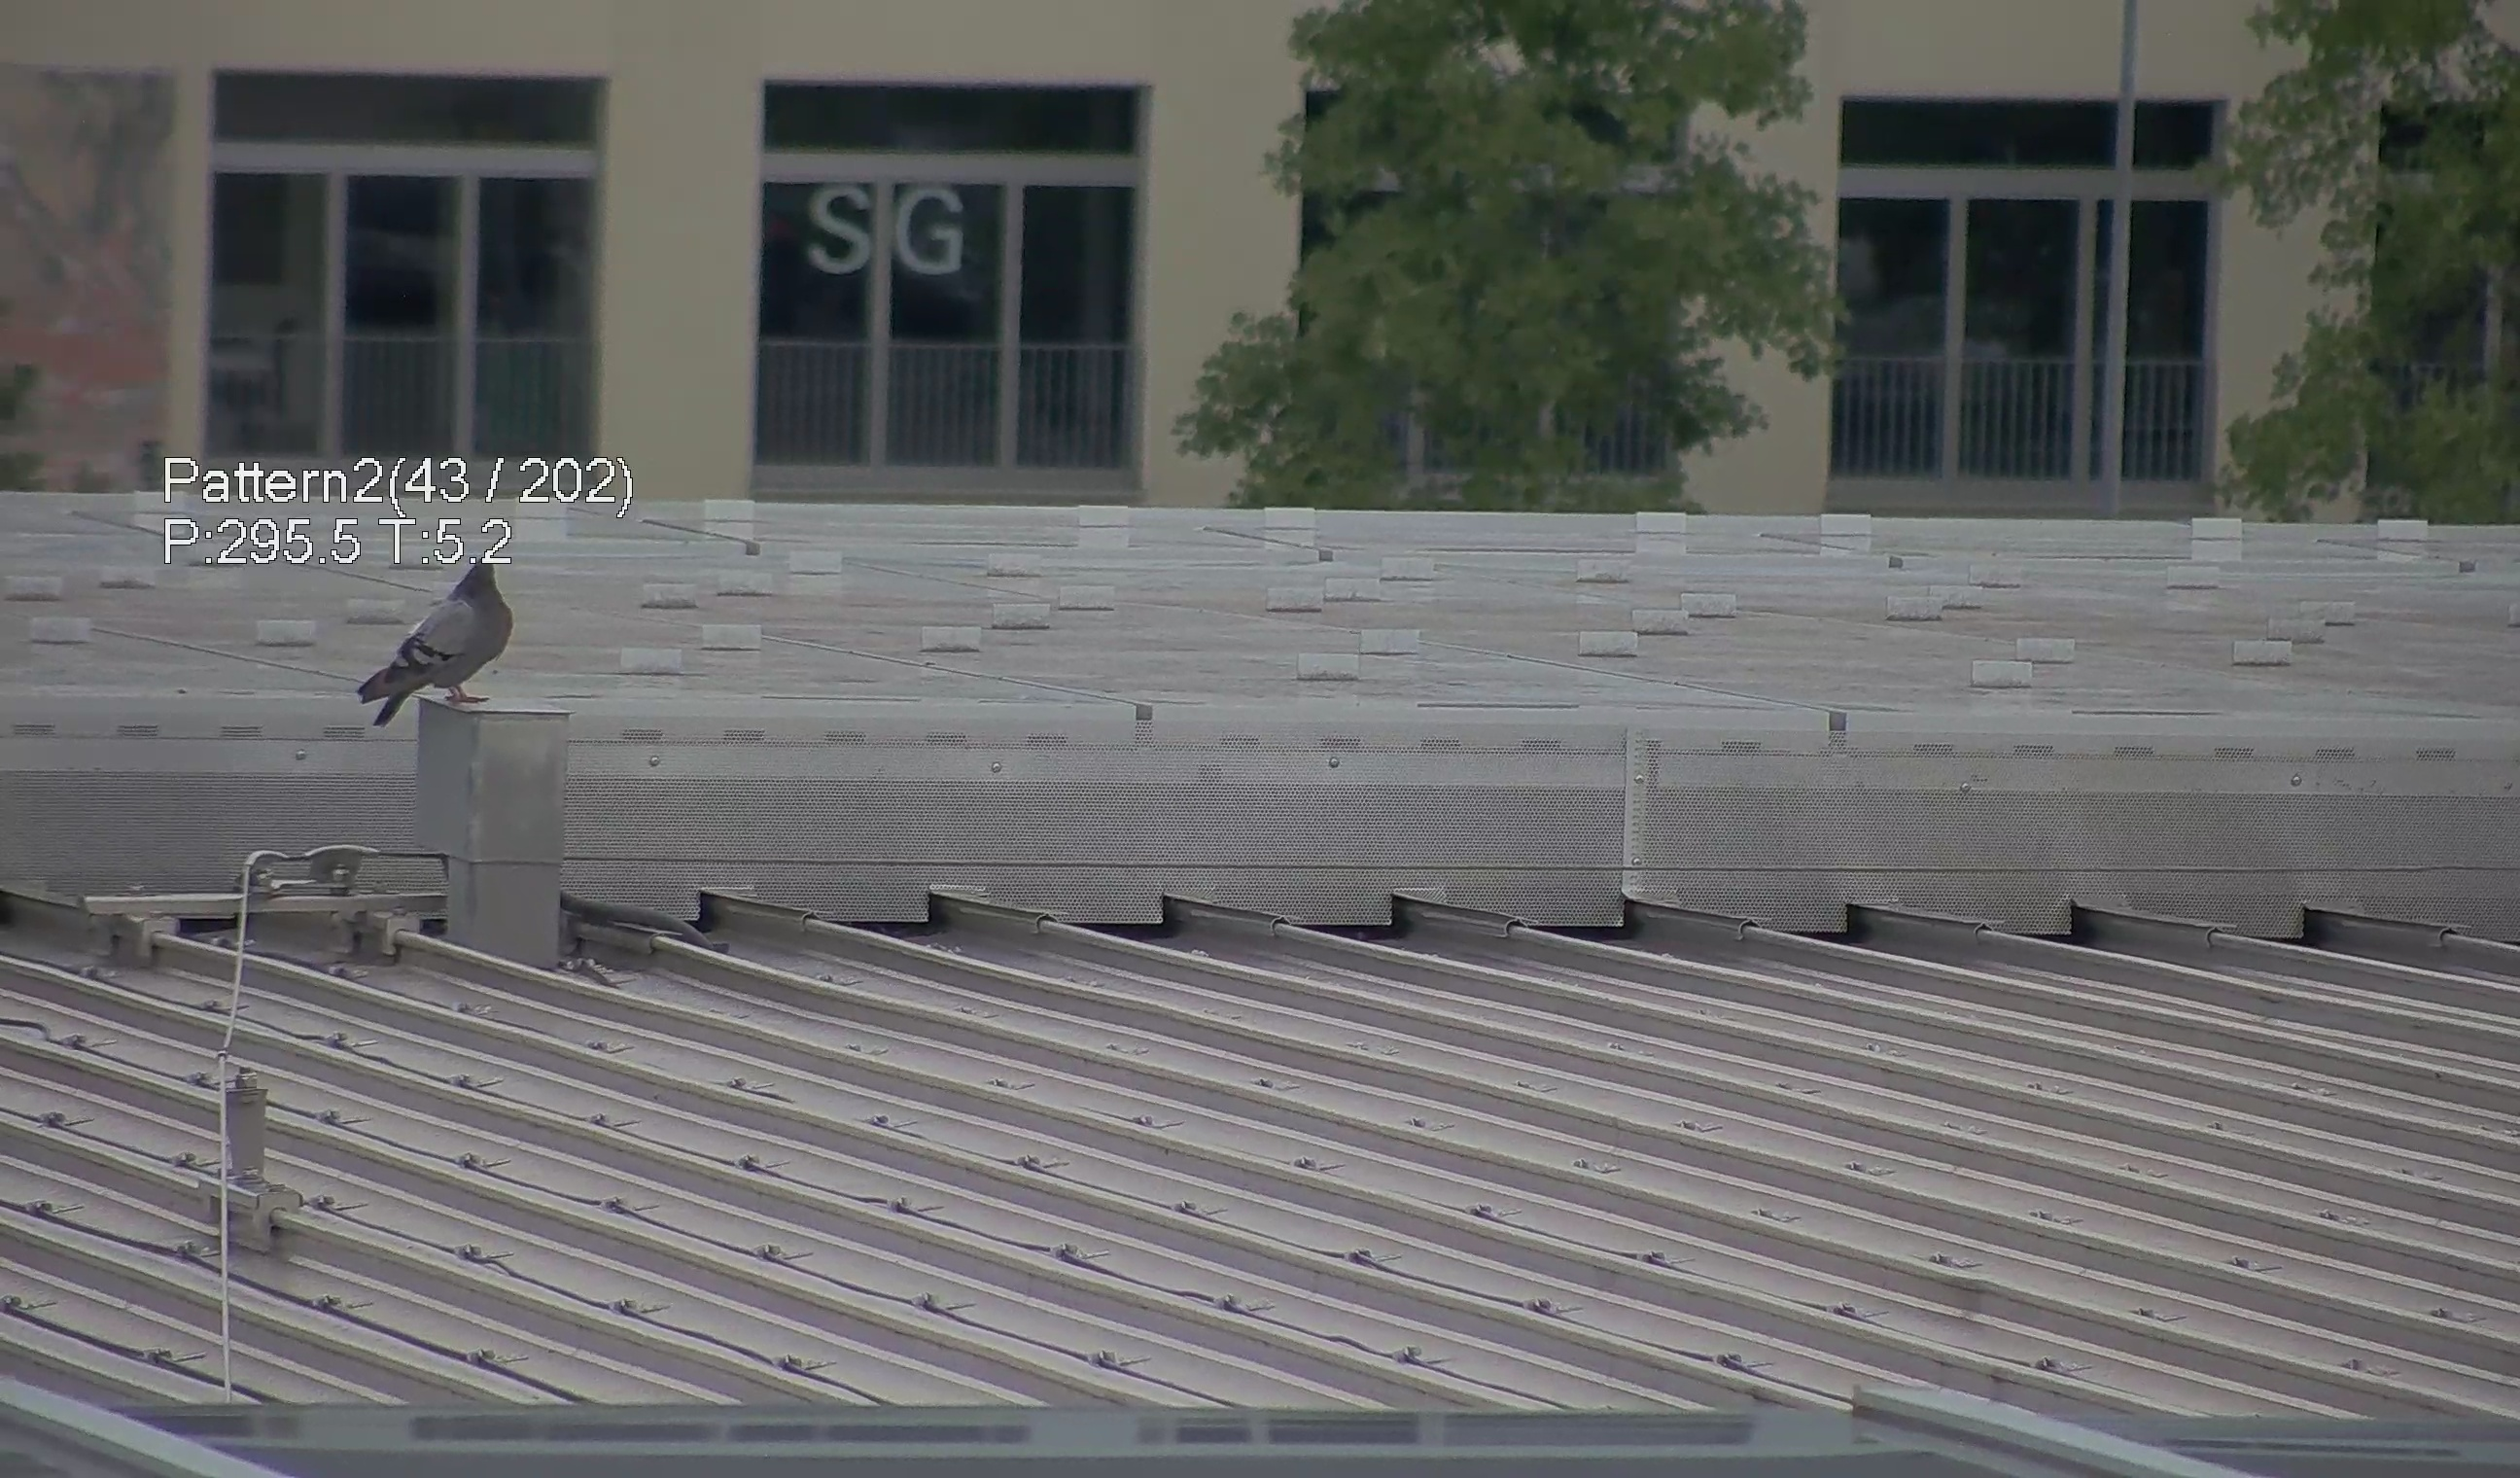Pigeon: (346, 542, 510, 727)
